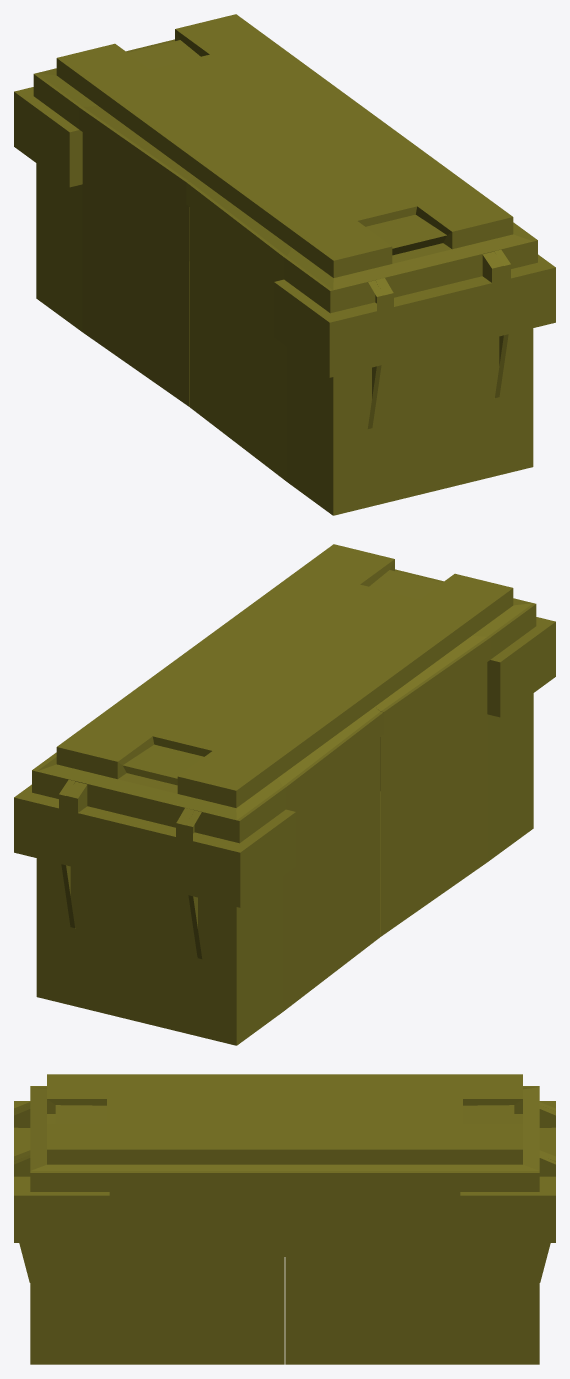
Rendered from AmmoBox.fbx.
3 views of the same model, one above another, from view 1: azimuth 30°, elevation 25°; view 2: azimuth 150°, elevation 25°; view 3: azimuth 270°, elevation 25° (orthographic). The views are drawn at different scales.
Visible parts, largest first — view 1: Cube; view 2: Cube; view 3: Cube.
Part boxes in pixels (box(x1,y1,x2,y2)): Cube: box(14, 14, 555, 515); Cube: box(14, 544, 555, 1045); Cube: box(14, 1074, 555, 1364).
Size of the model in its own units: 52.5 by 54.61 by 127.
